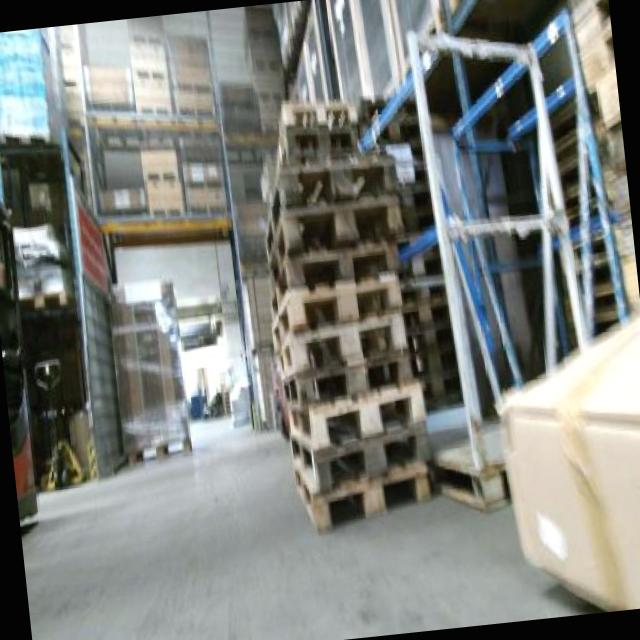pallet: (255, 114, 430, 546)
